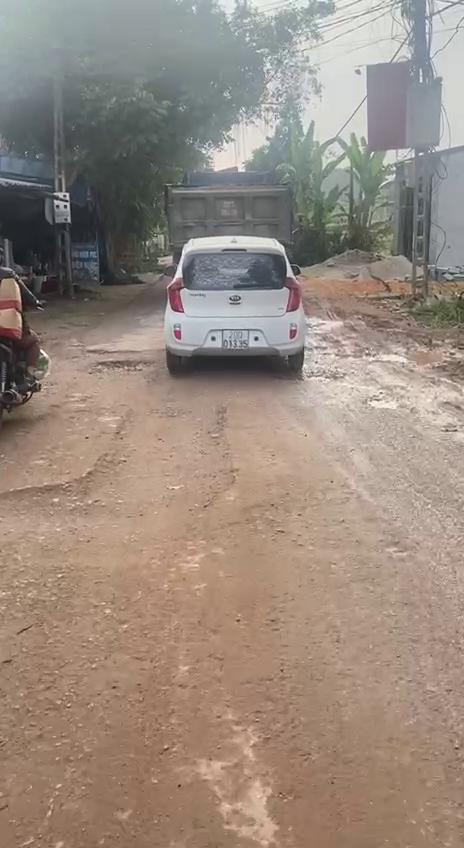pothole: (0, 448, 239, 516), (88, 358, 160, 376), (362, 396, 404, 412)
